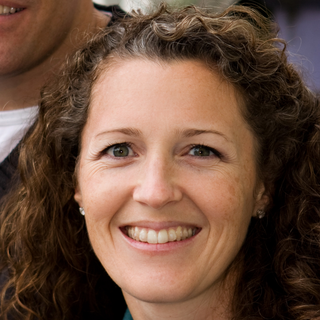eye: (169, 138, 237, 175), (85, 138, 149, 167)
